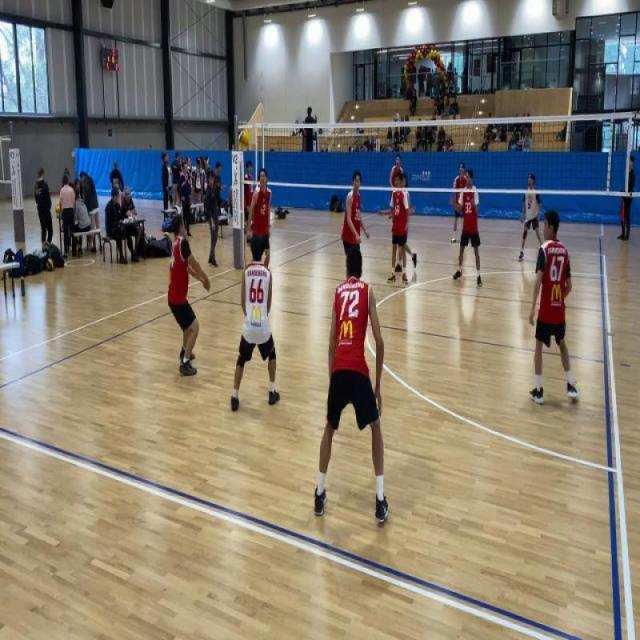volleyball: (238, 127, 250, 150), (46, 257, 54, 272), (55, 203, 61, 214), (163, 232, 170, 238), (148, 234, 152, 240)
